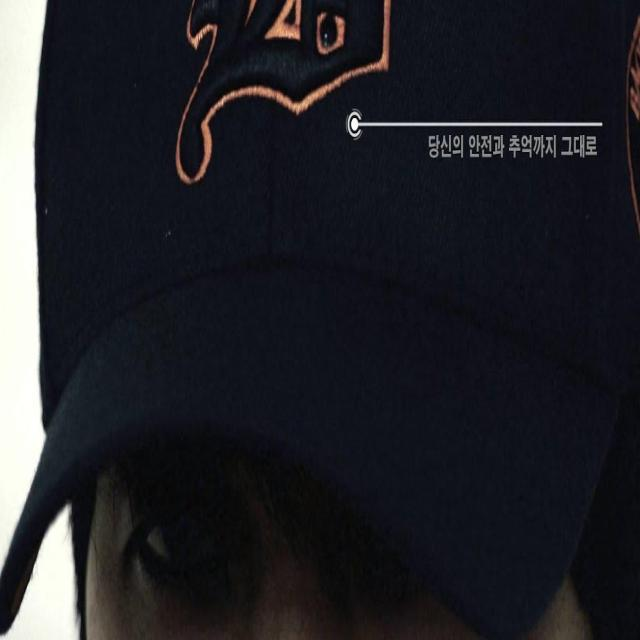hidden camera: (314, 5, 348, 61)
